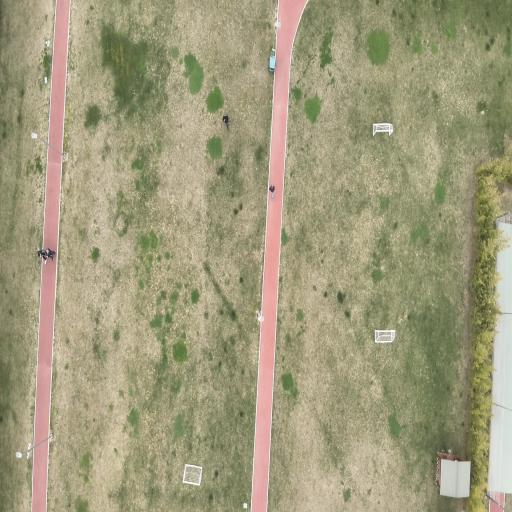person: (38, 250, 47, 264), (46, 249, 55, 260), (269, 184, 275, 200), (223, 115, 228, 131)
